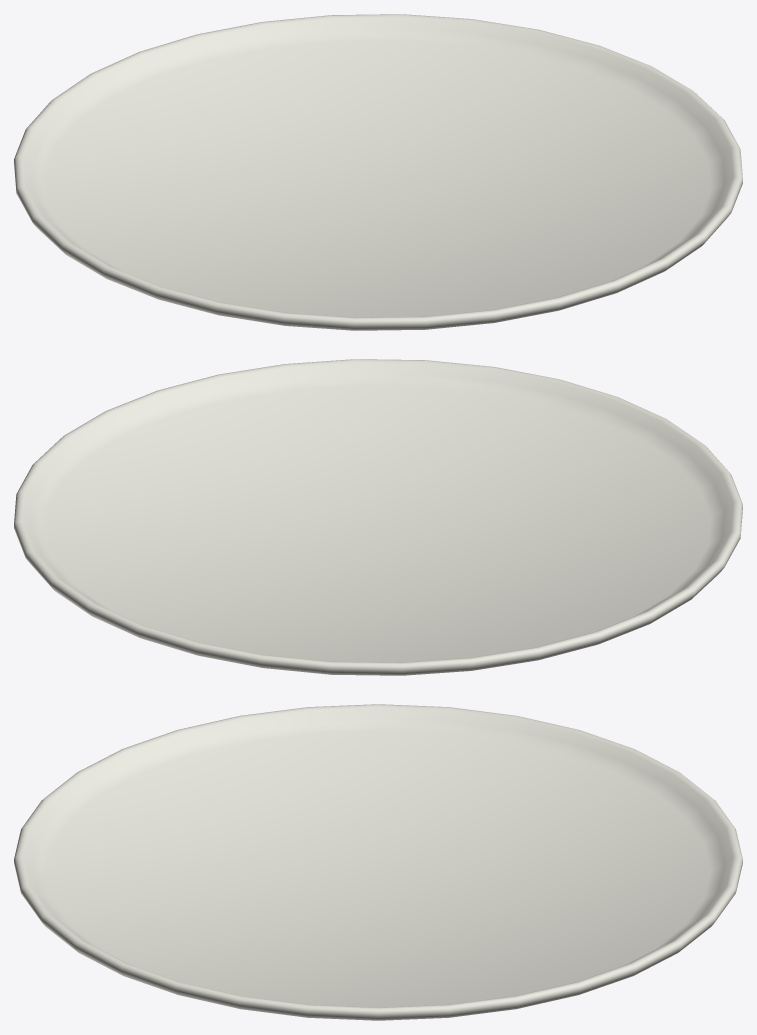
Rendered from Plate.fbx.
The picture shows the model from 3 angles, top to bottom: view 1: azimuth 30°, elevation 25°; view 2: azimuth 150°, elevation 25°; view 3: azimuth 270°, elevation 25°; orthographic projection.
Visible parts, largest first — view 1: Plate; view 2: Plate; view 3: Plate.
Boxes of the visible parts, box(x1,y1,x2,y2) form: Plate: box(14, 14, 742, 330); Plate: box(14, 359, 742, 675); Plate: box(14, 704, 742, 1020).
Size of the model in its own units: 22.97 by 1.13 by 22.97.
